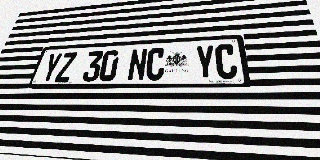0: (98, 50, 120, 81)
3: (81, 51, 104, 82)
C: (215, 44, 238, 79), (145, 47, 165, 81)
N: (127, 48, 148, 81)
Y: (195, 45, 216, 80), (39, 53, 63, 82)
Z: (54, 52, 77, 82)
